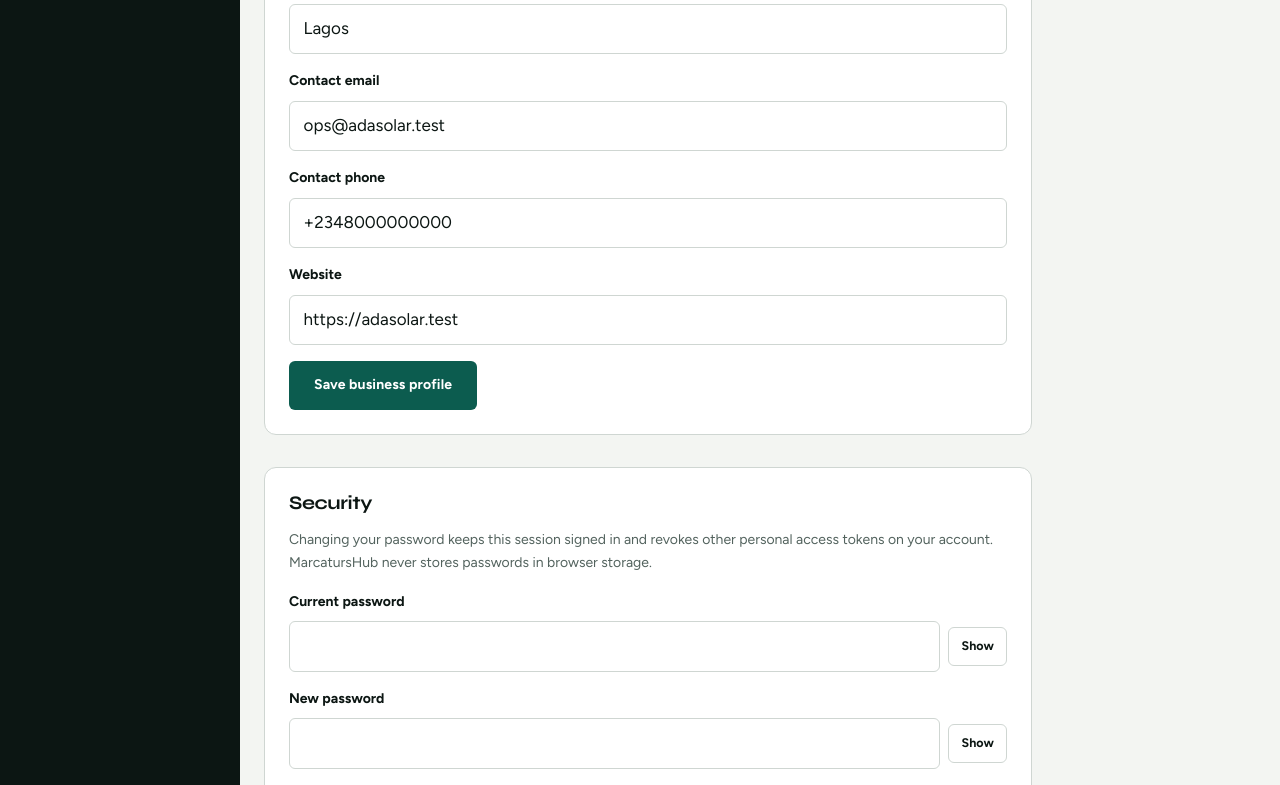
it: MH-FE-P09 participant settings › shows server validation errors for profile save
(page scrolled)
Click the button "Save business profile". click: (383, 385)
box: [289,361,477,410]
(page scrolled)
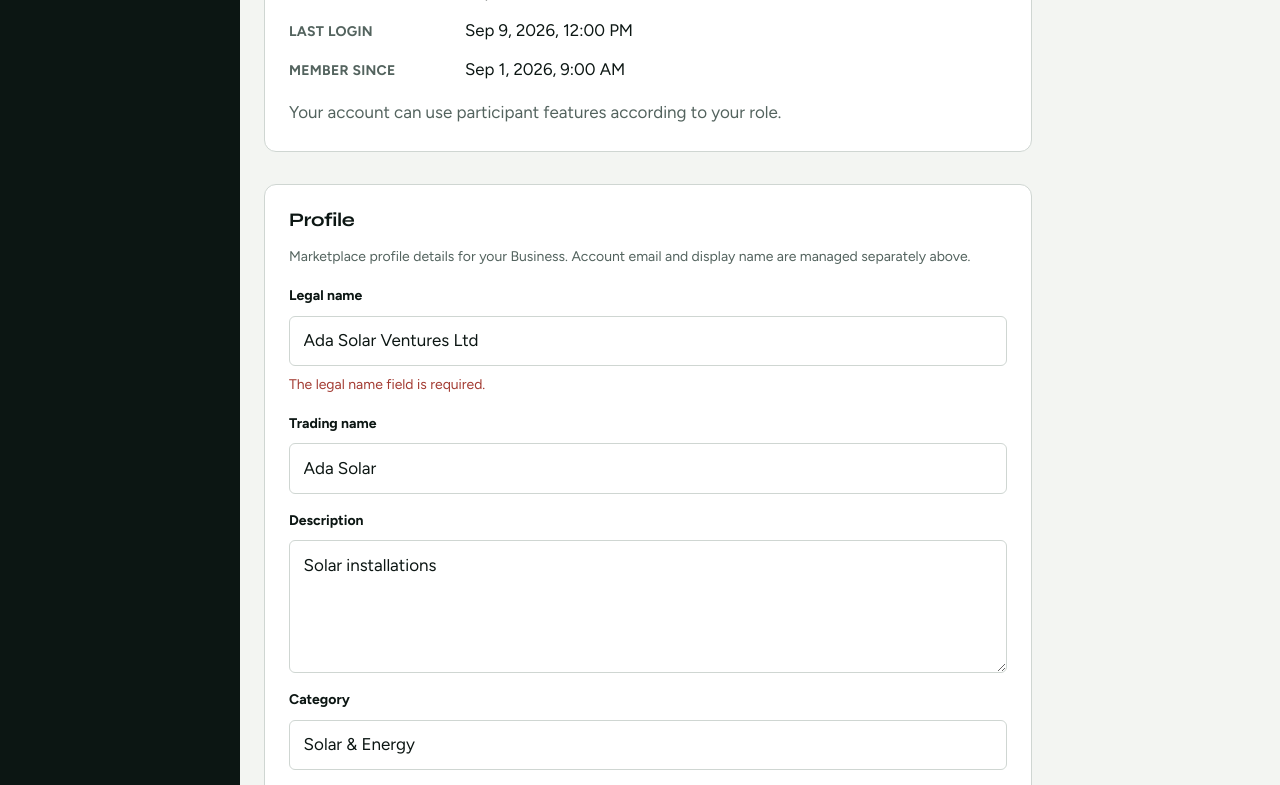
Result: the text "The legal name field is required." is shown at [289,376,485,393]
